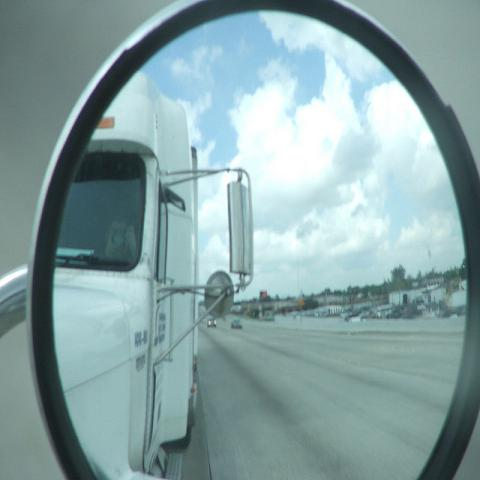car: (230, 319, 243, 329)
truck: (52, 72, 252, 475)
